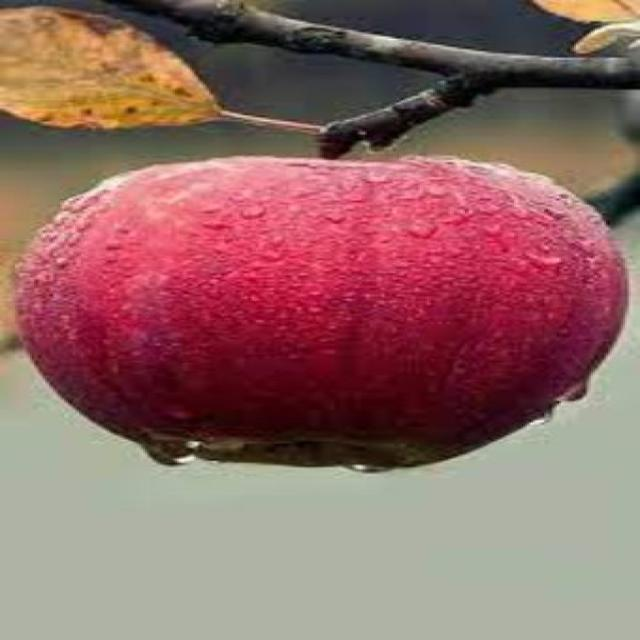Healty Apple: (10, 116, 626, 489)
